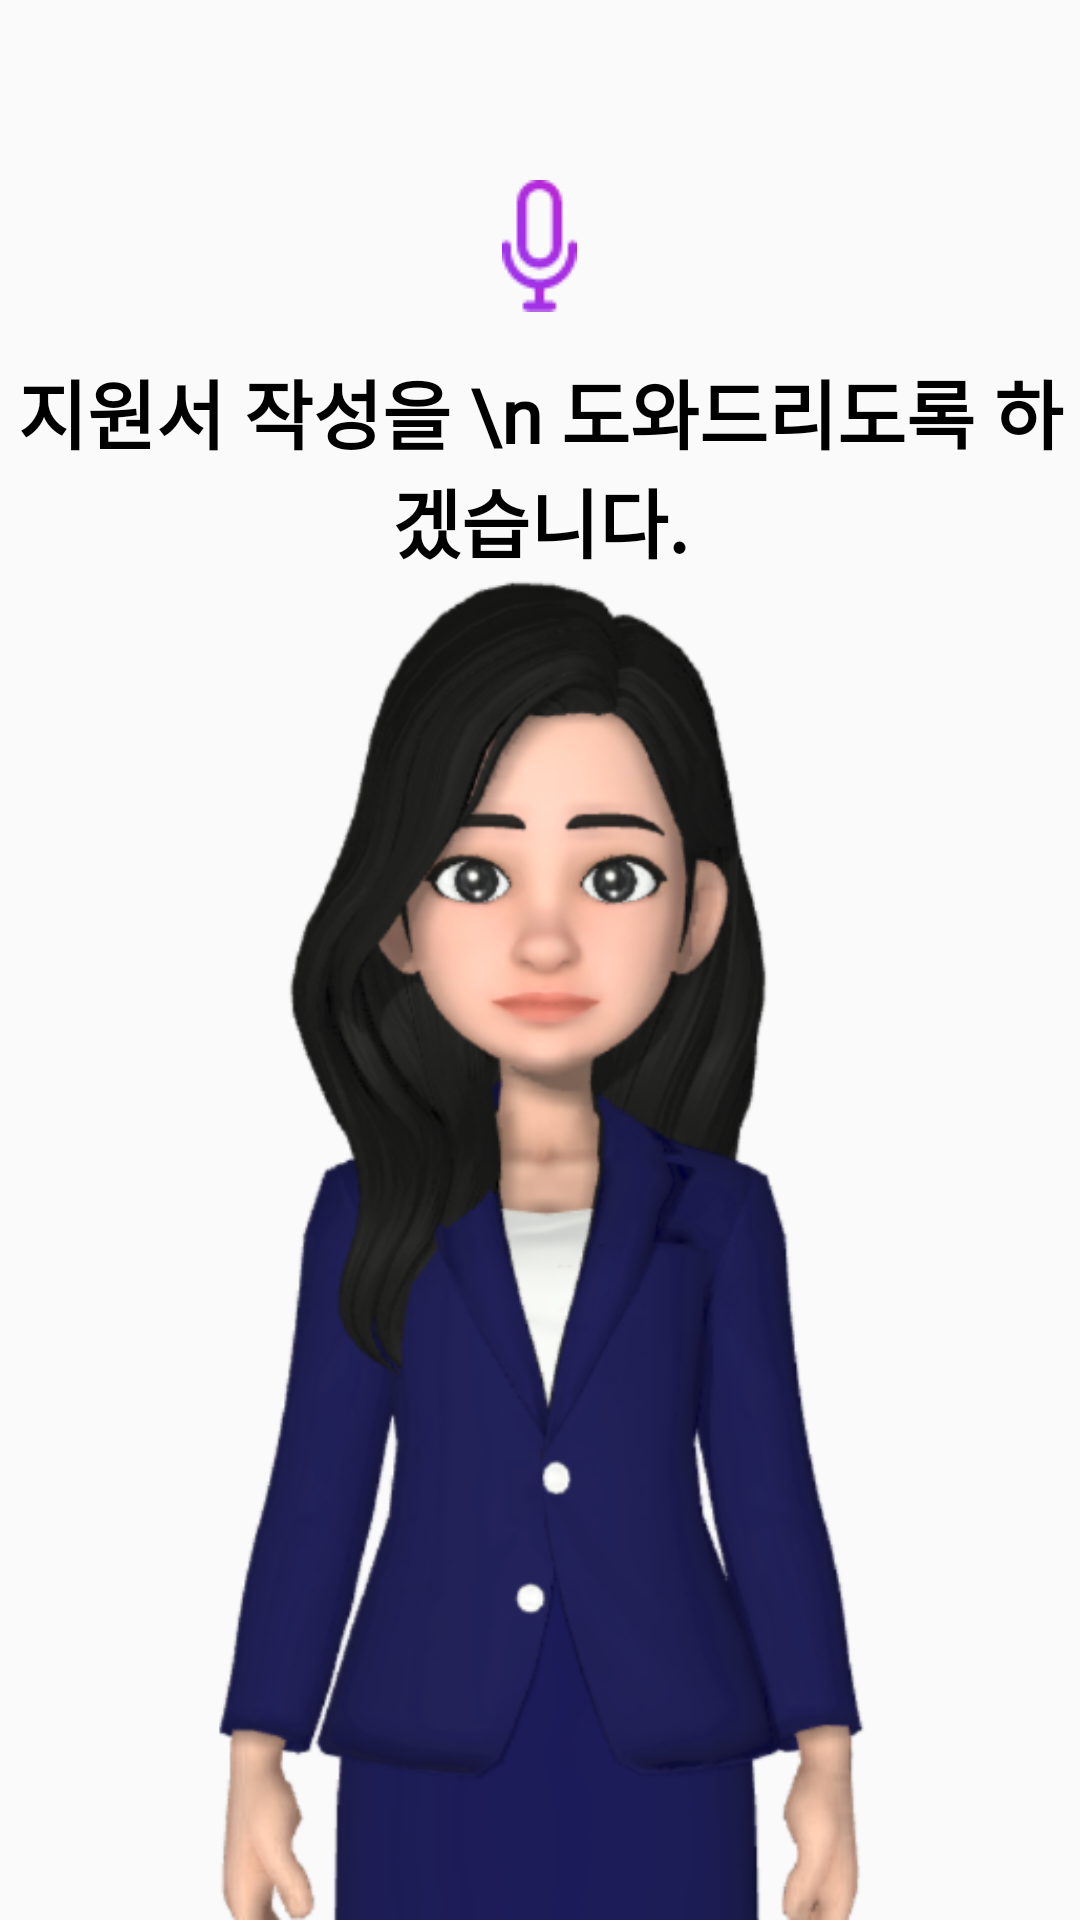

Icon bounding boxes for this 1080px×1920px phone screenshot, format Rect(x1, y1, x2, y2):
mic: Rect(502, 180, 577, 312)
